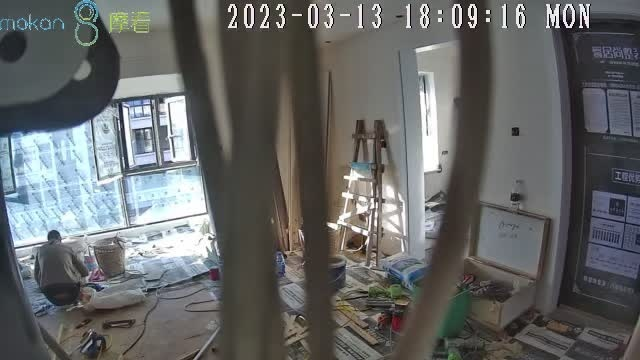people: (34, 230, 89, 306)
window: (1, 94, 210, 252)
